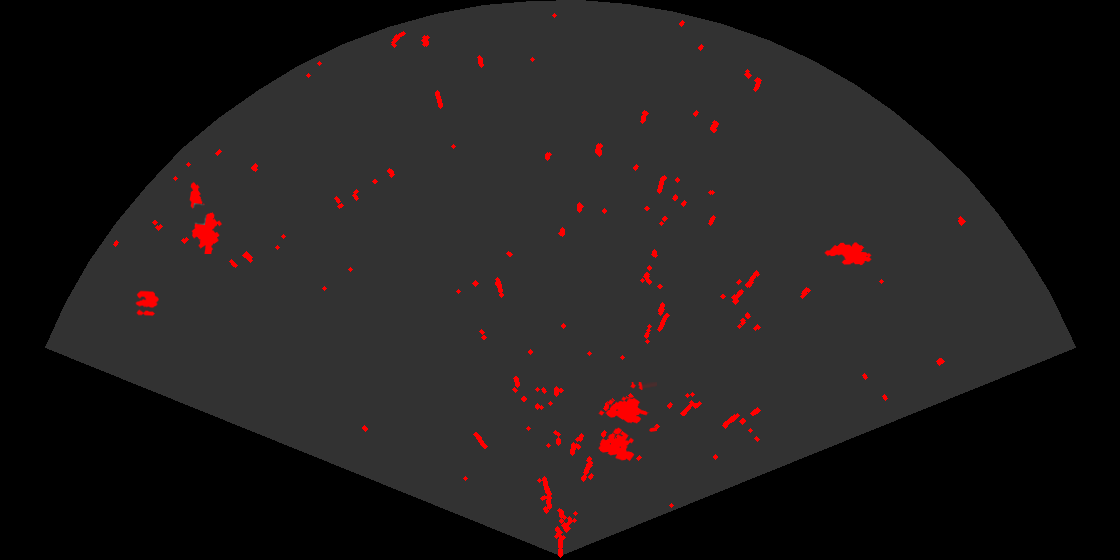AUV: (823, 241, 873, 267)
ball: (134, 289, 160, 318)
cage: (597, 382, 657, 463)
frogman: (188, 180, 224, 254)
